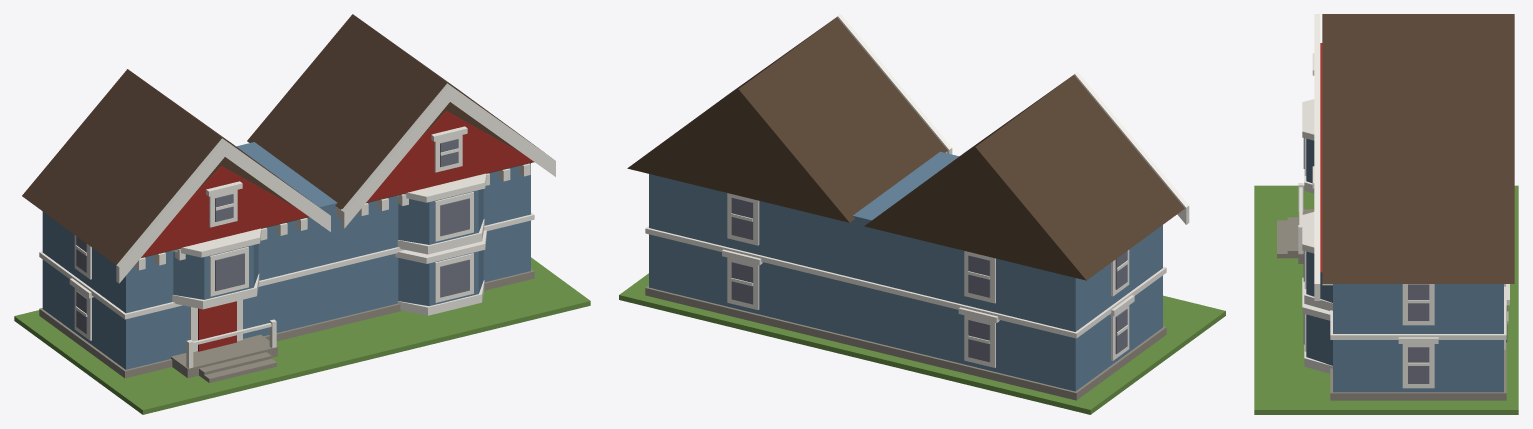
The model's file is house-2x1-2f-victorian-a.glb.
3 views of the same model, side by side, from view 1: azimuth 30°, elevation 25°; view 2: azimuth 150°, elevation 25°; view 3: azimuth 270°, elevation 25° (orthographic). The views are drawn at different scales.
Visible parts, largest first — view 1: house-2x1-2f-victorian-a; view 2: house-2x1-2f-victorian-a; view 3: house-2x1-2f-victorian-a.
Boxes of the visible parts, x1,y1,x2,y2 form: house-2x1-2f-victorian-a: (14, 14, 590, 414); house-2x1-2f-victorian-a: (619, 14, 1225, 414); house-2x1-2f-victorian-a: (1254, 14, 1518, 414).
Size of the model in its own units: 1.99 by 0.96 by 0.99.
1 material, 1 textured.
